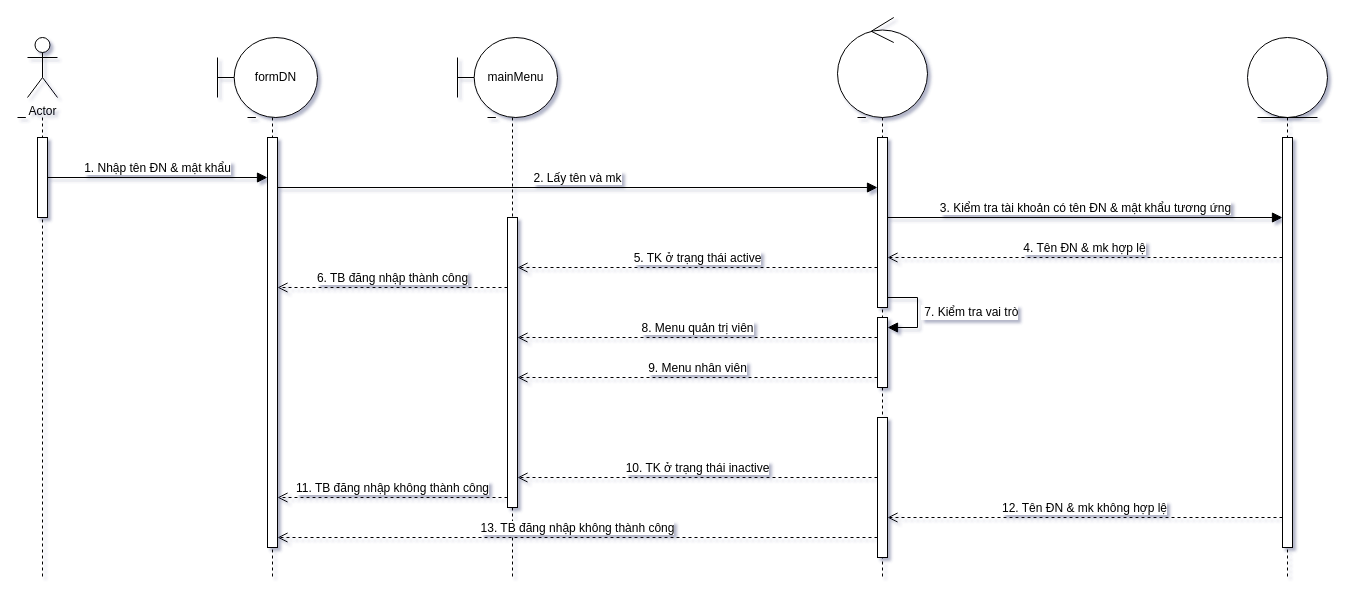
Some shapes in this 1351 by 601 pixel diagram are drawn without their labels. Each missing label, with the box of its shape:
CSDL: (1246, 36, 1328, 118)
TaiKhoanDAO: (836, 16, 928, 118)
